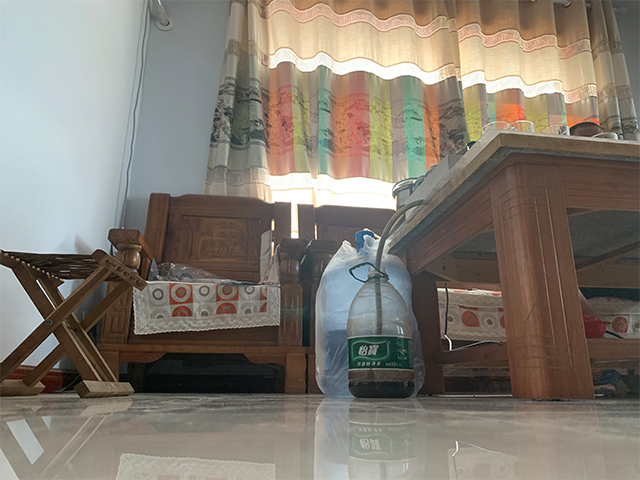sofa: (144, 186, 312, 390)
stool: (1, 247, 149, 400)
table: (382, 128, 640, 404)
